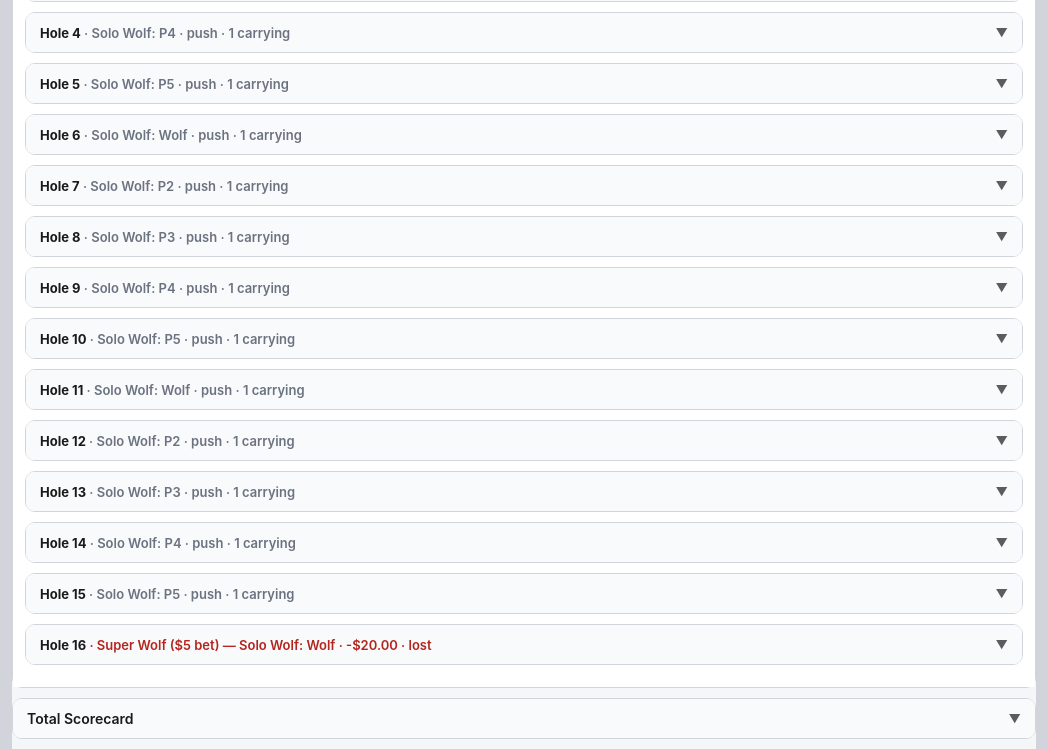
Test case: WolfAudit — Level 1 (per-hole) and Level 2 (detail) › Super Wolf holes (16-18) actually render in Results, labeled and with a standings snapshot
(page scrolled)
Click the text "Hole 16": (56, 645) [40, 637, 86, 653]
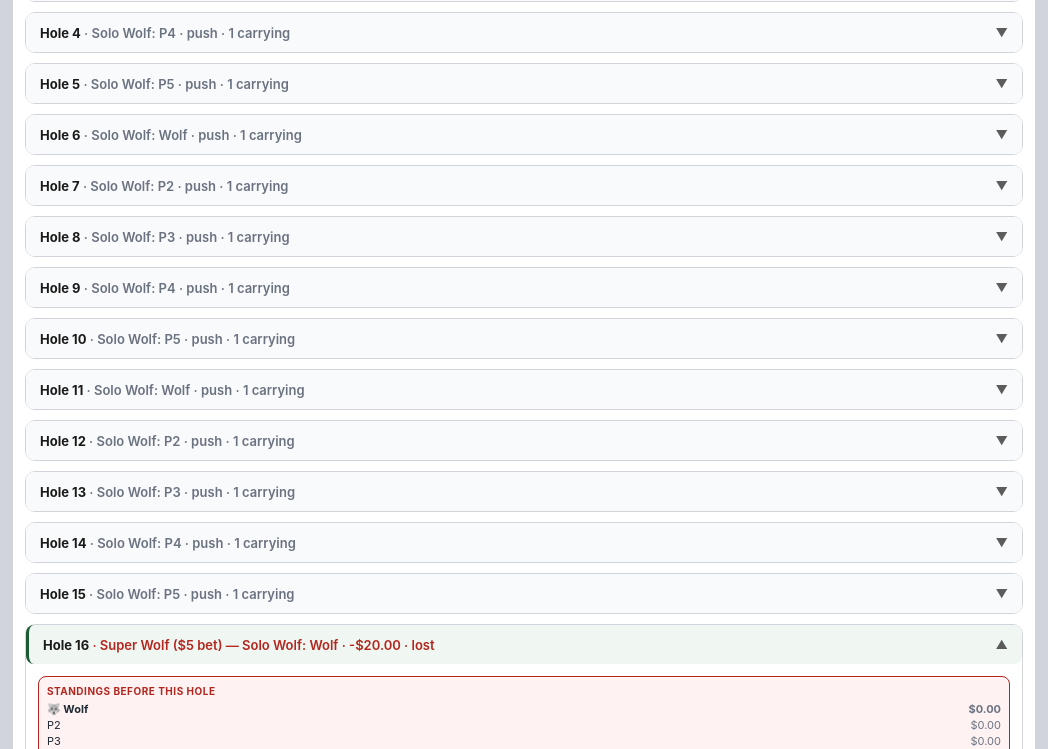
Now the text "Standings before this hole" is shown, box [47, 685, 216, 697]
